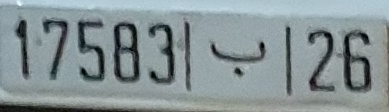1: (12, 17, 32, 82)
2: (306, 28, 337, 93)
3: (146, 23, 178, 86)
5: (77, 17, 106, 83)
6: (341, 29, 373, 94)
7: (42, 17, 70, 82)
8: (112, 21, 141, 85)
b: (209, 38, 267, 78)
